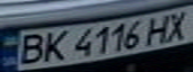1: (90, 24, 115, 55), (109, 20, 133, 52)
4: (72, 25, 96, 58)
6: (121, 17, 151, 50)
B: (9, 32, 51, 66)
H: (142, 12, 178, 45)
K: (36, 28, 72, 62)
X: (160, 8, 193, 42)
